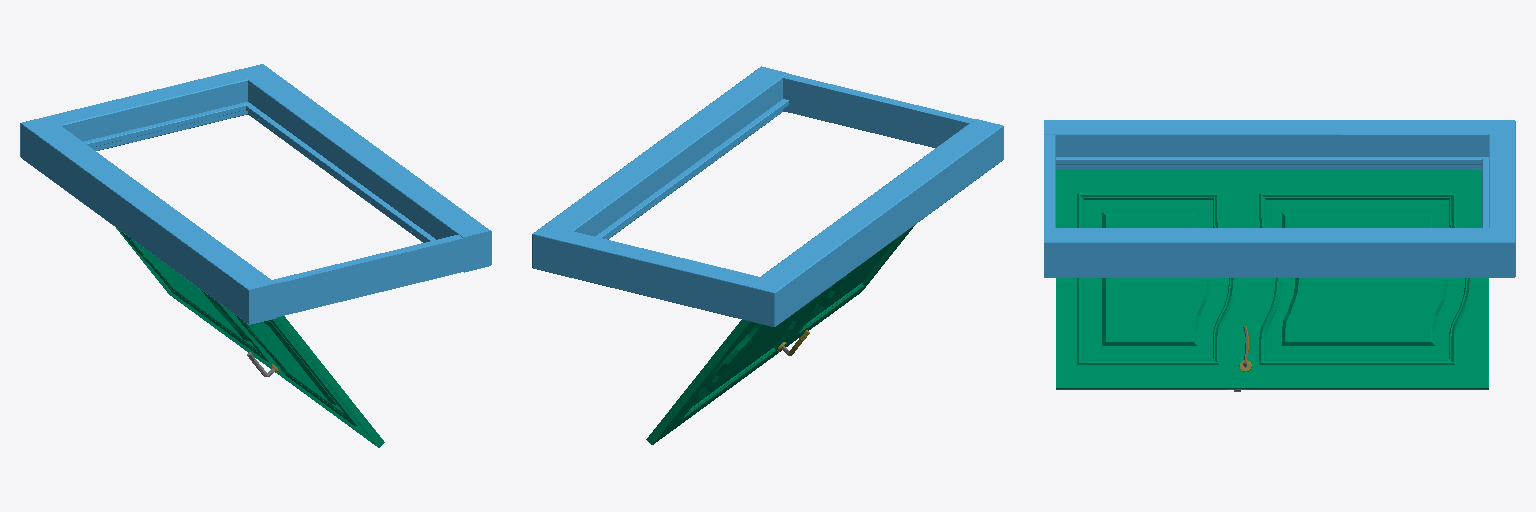
URDF robot description (73):
<robot name="73">


	<link name="0:virtual">
		<visual>
			<origin xyz="0.0 0.0 0.0" rpy="0 0 0"/>
			<geometry>
				<cylinder length="0" radius="0"/>
			</geometry>
		</visual>
	</link>


	<link name="1:static">
		<visual>
			<origin xyz="-0.0 -0.0 -0.0" rpy="0 0 0"/>
			<geometry>
				<mesh filename="../raw_data/73/part_meshes/1.dae" />
			</geometry>
		</visual>
	</link>


	<link name="2:door 1">
		<visual>
			<origin xyz="0.4780362567628476 -1.025975026190281 0.07938755623222465" rpy="0 0 0"/>
			<geometry>
				<mesh filename="../raw_data/73/part_meshes/2.dae" />
			</geometry>
		</visual>
	</link>


	<link name="3:handle 1">
		<visual>
			<origin xyz="-0.01194323920811416 -0.9110000010728836 0.825172258041395" rpy="0 0 0"/>
			<geometry>
				<mesh filename="../raw_data/73/part_meshes/3.dae" />
			</geometry>
		</visual>
	</link>


	<link name="4:handle 2">
		<visual>
			<origin xyz="-0.09759010980901708 -0.9118879768848419 0.8077820489945222" rpy="0 0 0"/>
			<geometry>
				<mesh filename="../raw_data/73/part_meshes/4.dae" />
			</geometry>
		</visual>
	</link>


	<joint name="0:virtual::1:static" type="fixed">
		<parent link="0:virtual"/>
		<child link="1:static"/>
		<origin xyz="0.0 0.0 0.0" rpy="0 0 0"/>
	</joint>


	<joint name="0:virtual::2:door 1_rotation" type="revolute">
		<parent link="0:virtual"/>
		<child link="2:door 1"/>
		<origin xyz="-0.4780362567628476 1.025975026190281 -0.07938755623222465" rpy="0 0 0"/>
		<limit lower="-0.9738937226128359" upper="0.7225663103256524" effort="10" velocity="3"/>
		<axis xyz="0.0 1.0 0.0"/>
	</joint>


	<joint name="2:door 1::3:handle 1_rotation" type="revolute">
		<parent link="2:door 1"/>
		<child link="3:handle 1"/>
		<origin xyz="0.4899794959709618 -0.11497502511739732 -0.7457847018091703" rpy="0 0 0"/>
		<limit lower="0.0" upper="0.4241150082346221" effort="10" velocity="3"/>
		<axis xyz="0.8195820858386489 0.0 0.5729617828200844"/>
	</joint>


	<joint name="2:door 1::4:handle 2_rotation" type="revolute">
		<parent link="2:door 1"/>
		<child link="4:handle 2"/>
		<origin xyz="0.5756263665718647 -0.114087049305439 -0.7283944927622976" rpy="0 0 0"/>
		<limit lower="0.0" upper="0.4241150082346221" effort="10" velocity="3"/>
		<axis xyz="0.8202334092554516 0.0 0.5720289803333208"/>
	</joint>


</robot>

--- Facts derived from the render (not from the file) ---
The picture shows the robot from 3 angles, left to right: view 1: azimuth 30°, elevation 25°; view 2: azimuth 150°, elevation 25°; view 3: azimuth 270°, elevation 25°; orthographic projection.
Robot: 73 — 5 links, 4 joints (3 revolute, 1 fixed); root link 0:virtual; default pose: all joints at 0.
Visible links, largest first — view 1: 1:static, 2:door 1; view 2: 1:static, 2:door 1; view 3: 2:door 1, 1:static.
Boxes of the visible links, <box> form: 1:static: <box>20,64,491,324</box>; 2:door 1: <box>116,228,384,447</box>; 1:static: <box>532,66,1003,326</box>; 2:door 1: <box>646,225,914,444</box>; 2:door 1: <box>1056,170,1488,391</box>; 1:static: <box>1044,120,1515,277</box>.
Bounding box of the posed robot: 1.3 × 2.12 × 1 m (x, y, z).
4 mesh visuals loaded from 4 distinct referenced files (4 Collada DAE).